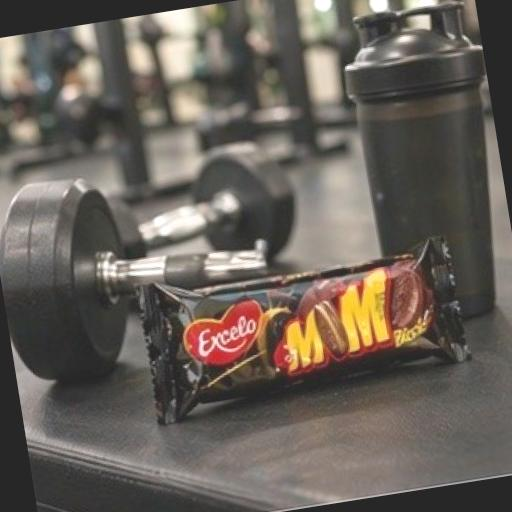MOMO: (69, 176, 512, 486)
